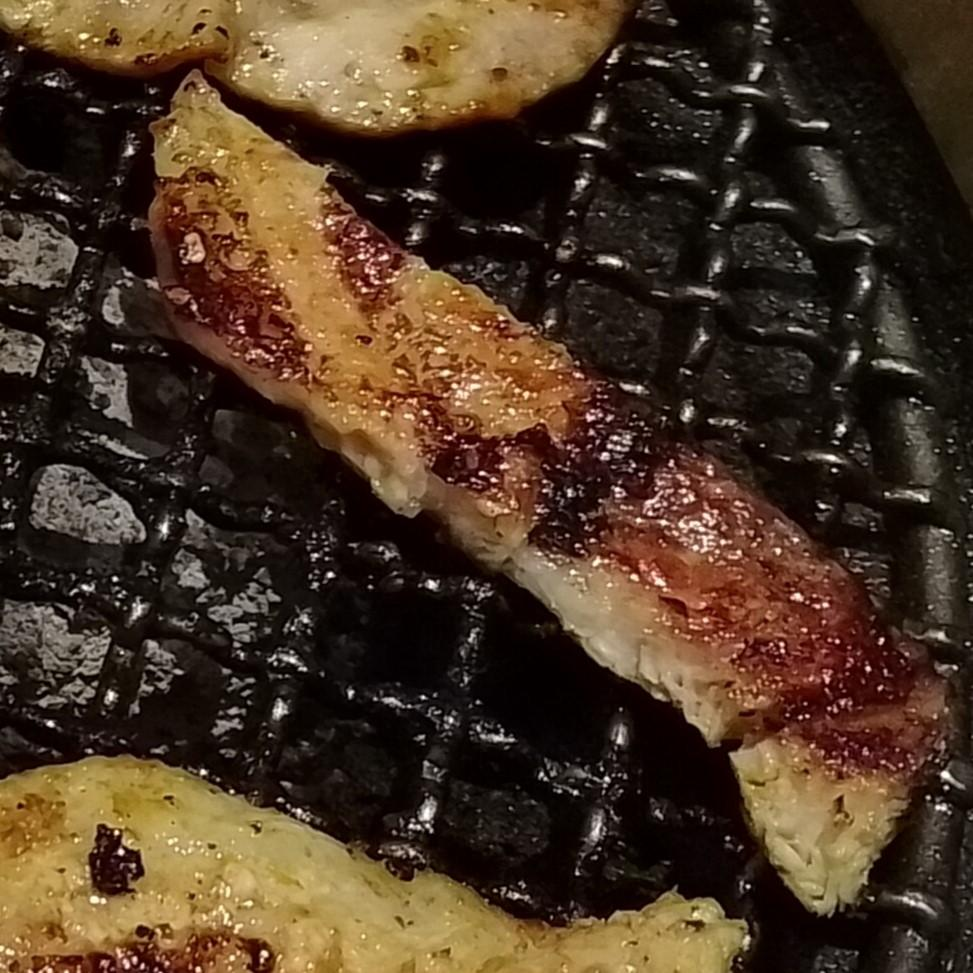Overcooked: (148, 72, 947, 912)
